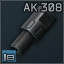AK Kiba Arms .308 muzzle device adapter: (0, 0, 64, 64)
